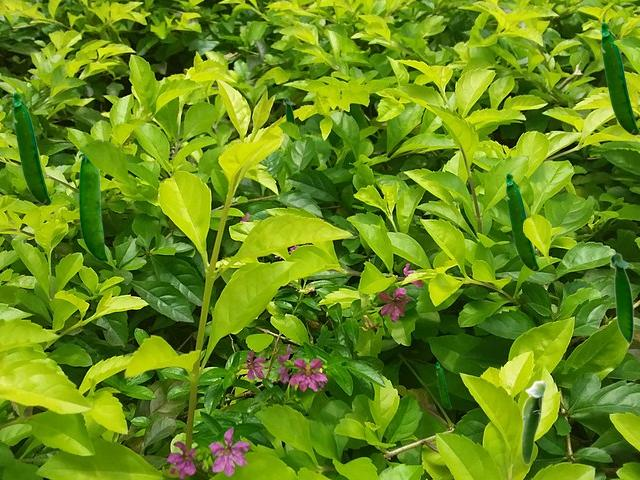pea: (600, 21, 638, 134), (12, 91, 50, 204), (505, 172, 538, 270), (79, 154, 107, 262), (609, 252, 633, 346), (521, 380, 545, 464), (436, 362, 450, 408), (283, 97, 294, 143)
